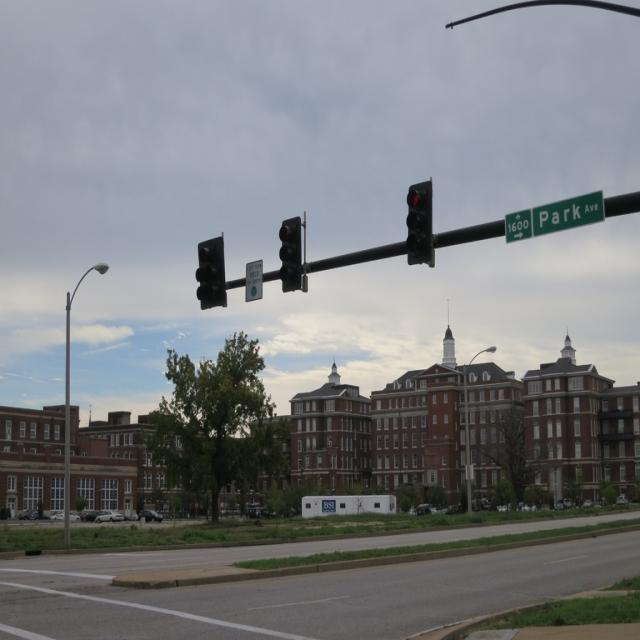off traffic light: (405, 180, 434, 261), (279, 217, 306, 291), (194, 237, 225, 301)
